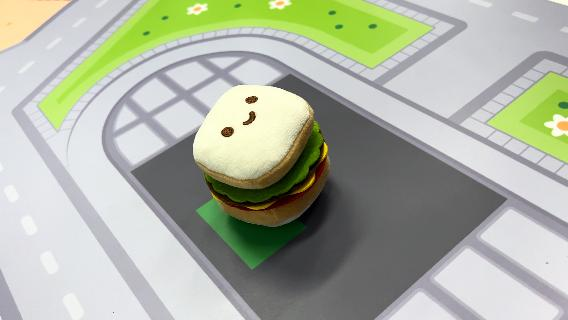sandwich: (191, 82, 333, 228)
